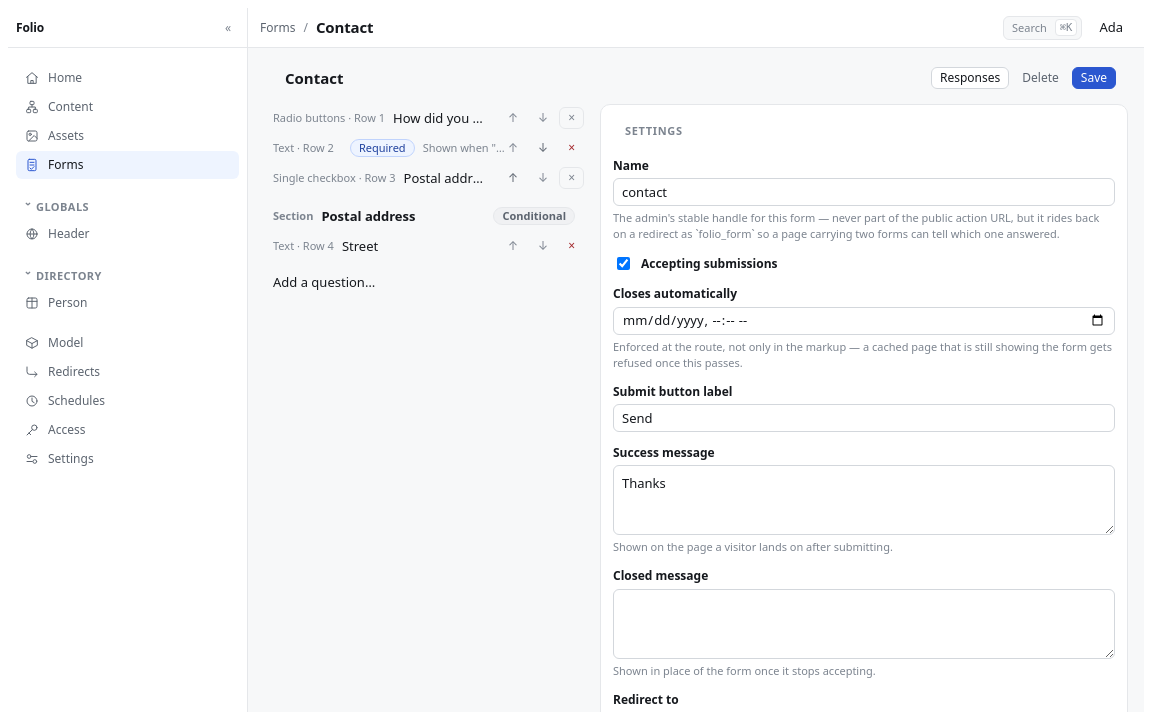
it: FormBuilder with conditions and a section › opens a section's panel with its own rule
Click the text "Postal address": {"x": 368, "y": 216} [321, 207, 416, 225]
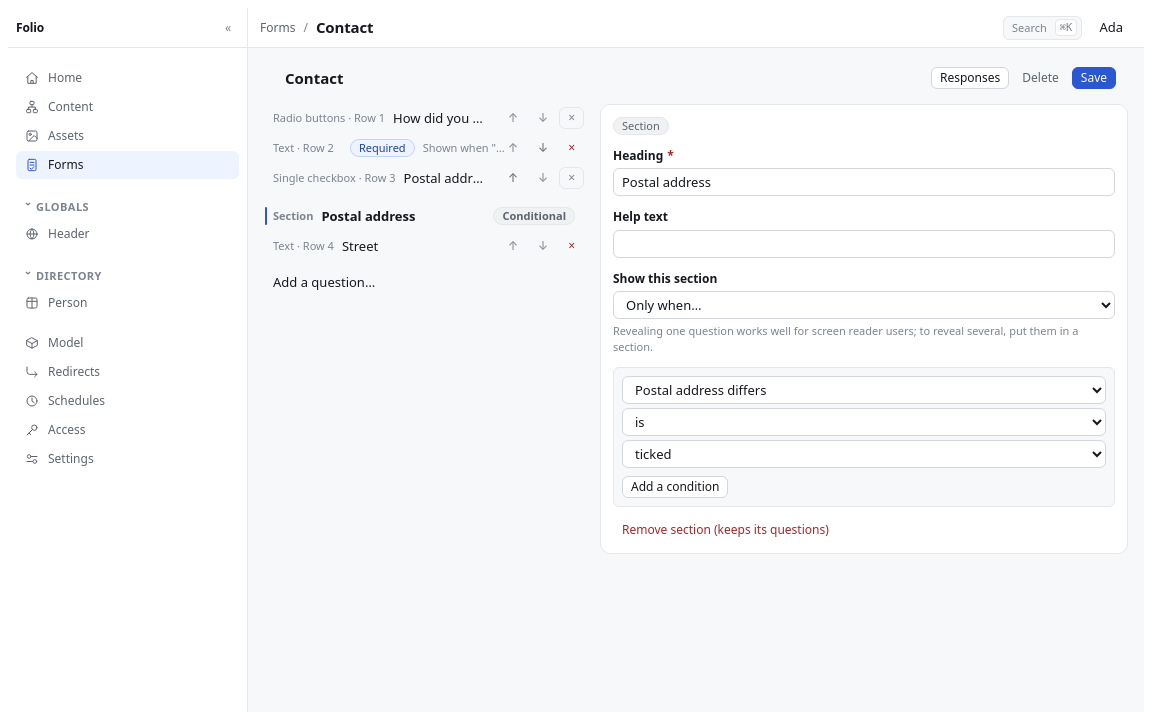
Result: the dropdown labelled "Show this section" shows "Only when…" at [613, 291, 1115, 319]
Result: the button "Remove section (keeps its questions)" is shown at [613, 519, 1115, 541]
